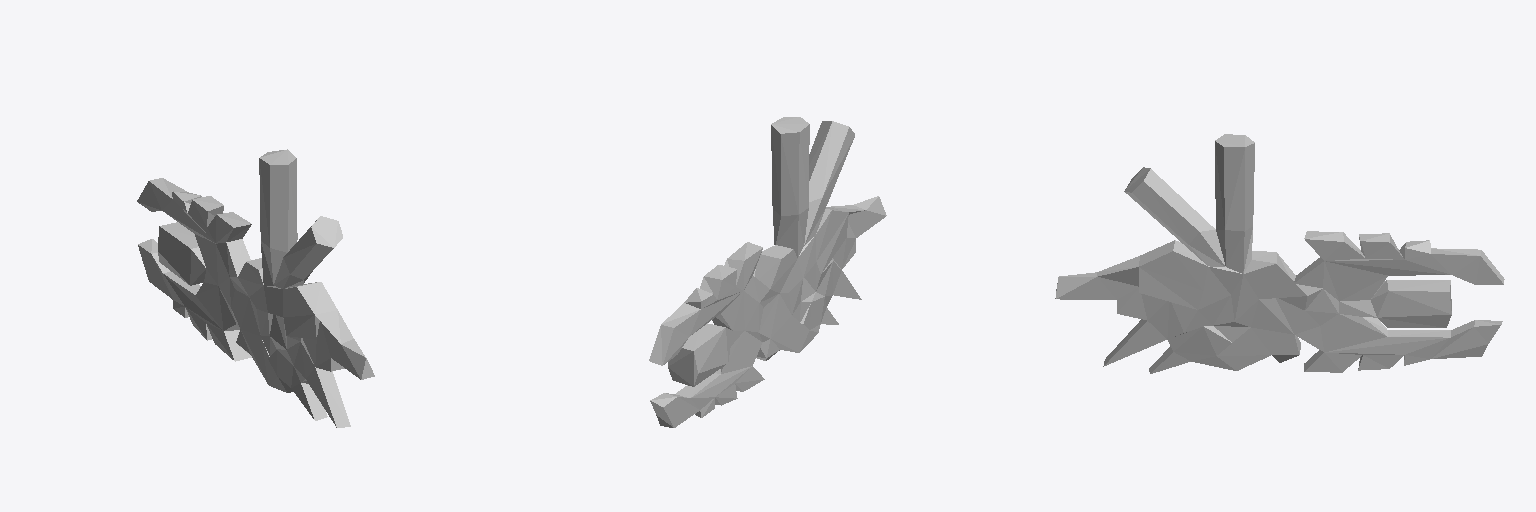
File: tripo_convert_5ab4bad9-84b1-465b-8be8-251f9fc20ae6.obj
3 views of the same model, side by side, from view 1: azimuth 30°, elevation 25°; view 2: azimuth 150°, elevation 25°; view 3: azimuth 270°, elevation 25° (orthographic).
Parts seen in each view (by area): view 1: tripo_node_5ab4bad9-84b1-465b-8be8-251f9fc20ae6; view 2: tripo_node_5ab4bad9-84b1-465b-8be8-251f9fc20ae6; view 3: tripo_node_5ab4bad9-84b1-465b-8be8-251f9fc20ae6.
Boxes of the visible parts, box(x1,y1,x2,y2) form: tripo_node_5ab4bad9-84b1-465b-8be8-251f9fc20ae6: box(137, 149, 374, 427); tripo_node_5ab4bad9-84b1-465b-8be8-251f9fc20ae6: box(649, 117, 886, 427); tripo_node_5ab4bad9-84b1-465b-8be8-251f9fc20ae6: box(1055, 134, 1504, 373).
Bounding box in the file's own units: 0.0742 × 0.569 × 1.